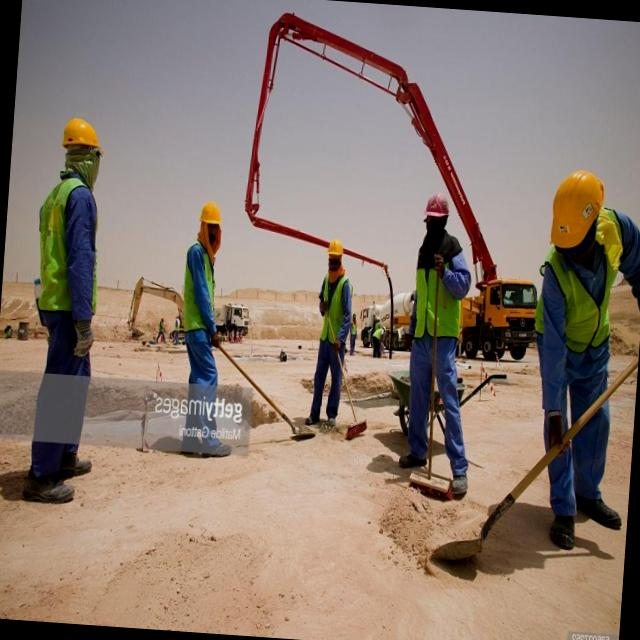helmet: (544, 167, 612, 268), (56, 114, 106, 163), (192, 196, 225, 238), (314, 232, 351, 266), (422, 195, 452, 221)
vest: (28, 178, 107, 322), (534, 232, 620, 362), (408, 252, 460, 347), (172, 246, 222, 336), (316, 278, 352, 354)
